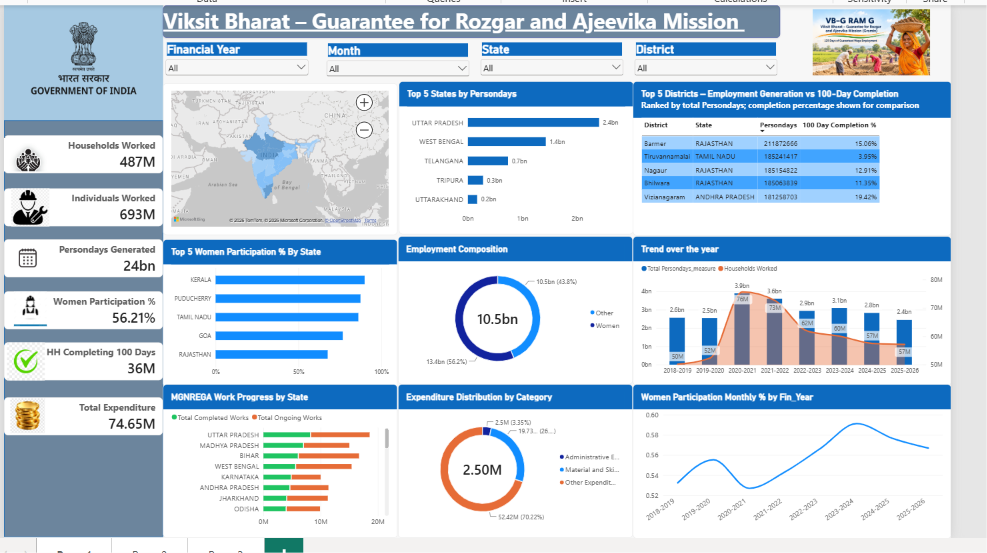

The page's visual inventory and layout, read from the dashboard file:
{"tool":"powerbi","page":{"name":"Page 1","canvas":[1920,1080],"ordinal":0},"visuals":[{"type":"image","box":[1637.6,9.1,240.8,134],"z":0},{"type":"image","box":[0,0,322.5,233.9],"z":1000},{"type":"textbox","box":[322.5,0,1251.5,65.9],"z":2000},{"type":"shape","box":[0,233.9,322.5,844.9],"z":3000},{"type":"slicer","fields":{"Values":["Dim_Date.Fin_Year"]},"box":[322.5,75,299.8,77.2],"z":4000},{"type":"slicer","fields":{"Values":["Dim_Date.Month Name"]},"box":[649.6,77.2,299.8,79.5],"z":5000},{"type":"slicer","fields":{"Values":["Dim_State.state_name"]},"box":[960.8,75,299.8,81.8],"z":6000},{"type":"slicer","fields":{"Values":["Dim_District.district_name"]},"box":[1274.2,75,299.8,81.8],"z":7000},{"type":"cardVisual","fields":{"Data":["Dim_Date.Households Worked"]},"box":[0,263.5,322.5,77.2],"z":8000},{"type":"cardVisual","fields":{"Data":["Fact_MGNREGA.Individuals Worked"]},"box":[0,370.2,322.5,77.2],"z":9000},{"type":"cardVisual","fields":{"Data":["Dim_Date.Total Persondays"]},"box":[0,474.7,322.5,77.2],"z":10000},{"type":"cardVisual","fields":{"Data":["Dim_Date.Women Participation %"]},"box":[0,579.2,322.5,77.2],"z":11000},{"type":"cardVisual","fields":{"Data":["Fact_MGNREGA.Households Completed 100 Days"]},"box":[0,683.7,322.5,77.2],"z":12000},{"type":"cardVisual","fields":{"Data":["Fact_MGNREGA.Total Expenditure_measure"]},"box":[0,795,322.5,77.2],"z":13000},{"type":"image","box":[0,265.7,99.9,75],"z":14000},{"type":"image","box":[9.1,370.2,90.9,77.2],"z":15000},{"type":"image","box":[9,482.6,78.6,58.4],"z":16000},{"type":"image","box":[9.1,579.2,90.9,70.4],"z":17000},{"type":"image","box":[0,683.7,88.6,77.2],"z":18000},{"type":"image","box":[9.1,797.2,79.5,70.4],"z":19000},{"type":"filledMap","fields":{"Category":["Dim_State.State Location"]},"box":[322.5,157.5,475,307.5],"z":20000},{"type":"lineClusteredColumnComboChart","title":"Trend over the year","fields":{"Category":["Dim_Date.Employment Time Hierarchy.Fin_Year","Dim_Date.Employment Time Hierarchy.Month Name"],"Y":["Dim_Date.Total Persondays_measure"],"Y2":["Dim_Date.Households Worked"]},"box":[1275,467.5,645,302.5],"z":21000},{"type":"donutChart","title":"Employment Composition","fields":{"Y":["Dim_Date.Other Persondays","Fact_MGNREGA.Women Persondays"]},"box":[798,468,476,300],"z":22000},{"type":"clusteredBarChart","title":"Top 5 States by Persondays","fields":{"Category":["Dim_State.state_name"],"Y":["Dim_Date.Total Persondays_measure"]},"box":[800,155,475,310],"z":23000},{"type":"tableEx","title":"Top 5 Districts – Employment Generation vs 100-Day Completion","fields":{"Values":["Dim_District.district_name","Dim_State.state_name","Dim_Date.Total Persondays","Fact_MGNREGA.100 Day Completion %"]},"box":[1275,155,645,312.5],"z":24000},{"type":"clusteredBarChart","title":"Top 5 Women Participation % By State","fields":{"Category":["Dim_State.state_name"],"Y":["Dim_Date.Women Participation %"]},"box":[322.5,475,475,300],"z":25000},{"type":"barChart","title":"MGNREGA Work Progress by State","fields":{"Category":["Dim_State.state_name"],"Y":["Dim_Date.Total Completed Works","Dim_Date.Total Ongoing Works"]},"box":[323,768,475,311],"z":26000},{"type":"donutChart","title":"Expenditure Distribution by Category","fields":{"Y":["Fact_MGNREGA.Administrative Expenditure","Fact_MGNREGA.Material and Skilled Wages","Fact_MGNREGA.Other Expenditure"]},"box":[798,768,476,311],"z":27000},{"type":"lineChart","fields":{"Category":["Dim_Date.Employment Time Hierarchy.Fin_Year","Dim_Date.Employment Time Hierarchy.Month Name"],"Y":["Dim_Date.Women Participation Monthly %"]},"box":[1275,767.5,645,312.5],"z":28000}]}

Visuals, with their boxes on the page's 1920x1080 design canvas (x1, y1, x2, y2). These are canvas units, not pixel positions in the 987x553 screenshot, which may show the page scaled, cropped or inside an application window:
image: x1=1638 y1=9 x2=1878 y2=143
image: x1=0 y1=0 x2=322 y2=234
textbox: x1=322 y1=0 x2=1574 y2=66
shape: x1=0 y1=234 x2=322 y2=1079
slicer - Dim_Date.Fin_Year: x1=322 y1=75 x2=622 y2=152
slicer - Dim_Date.Month Name: x1=650 y1=77 x2=949 y2=157
slicer - Dim_State.state_name: x1=961 y1=75 x2=1261 y2=157
slicer - Dim_District.district_name: x1=1274 y1=75 x2=1574 y2=157
cardVisual - Dim_Date.Households Worked: x1=0 y1=264 x2=322 y2=341
cardVisual - Fact_MGNREGA.Individuals Worked: x1=0 y1=370 x2=322 y2=447
cardVisual - Dim_Date.Total Persondays: x1=0 y1=475 x2=322 y2=552
cardVisual - Dim_Date.Women Participation %: x1=0 y1=579 x2=322 y2=656
cardVisual - Fact_MGNREGA.Households Completed 100 Days: x1=0 y1=684 x2=322 y2=761
cardVisual - Fact_MGNREGA.Total Expenditure_measure: x1=0 y1=795 x2=322 y2=872
image: x1=0 y1=266 x2=100 y2=341
image: x1=9 y1=370 x2=100 y2=447
image: x1=9 y1=483 x2=88 y2=541
image: x1=9 y1=579 x2=100 y2=650
image: x1=0 y1=684 x2=89 y2=761
image: x1=9 y1=797 x2=89 y2=868
filledMap - Dim_State.State Location: x1=322 y1=158 x2=798 y2=465
"Trend over the year" lineClusteredColumnComboChart: x1=1275 y1=468 x2=1920 y2=770
"Employment Composition" donutChart: x1=798 y1=468 x2=1274 y2=768
"Top 5 States by Persondays" clusteredBarChart: x1=800 y1=155 x2=1275 y2=465
"Top 5 Districts – Employment Generation vs 100-Day Completion" tableEx: x1=1275 y1=155 x2=1920 y2=468
"Top 5 Women Participation % By State" clusteredBarChart: x1=322 y1=475 x2=798 y2=775
"MGNREGA Work Progress by State" barChart: x1=323 y1=768 x2=798 y2=1079
"Expenditure Distribution by Category" donutChart: x1=798 y1=768 x2=1274 y2=1079
lineChart - Dim_Date.Employment Time Hierarchy.Fin_Year x Dim_Date.Employment Time Hierarchy.Month Name: x1=1275 y1=768 x2=1920 y2=1080
